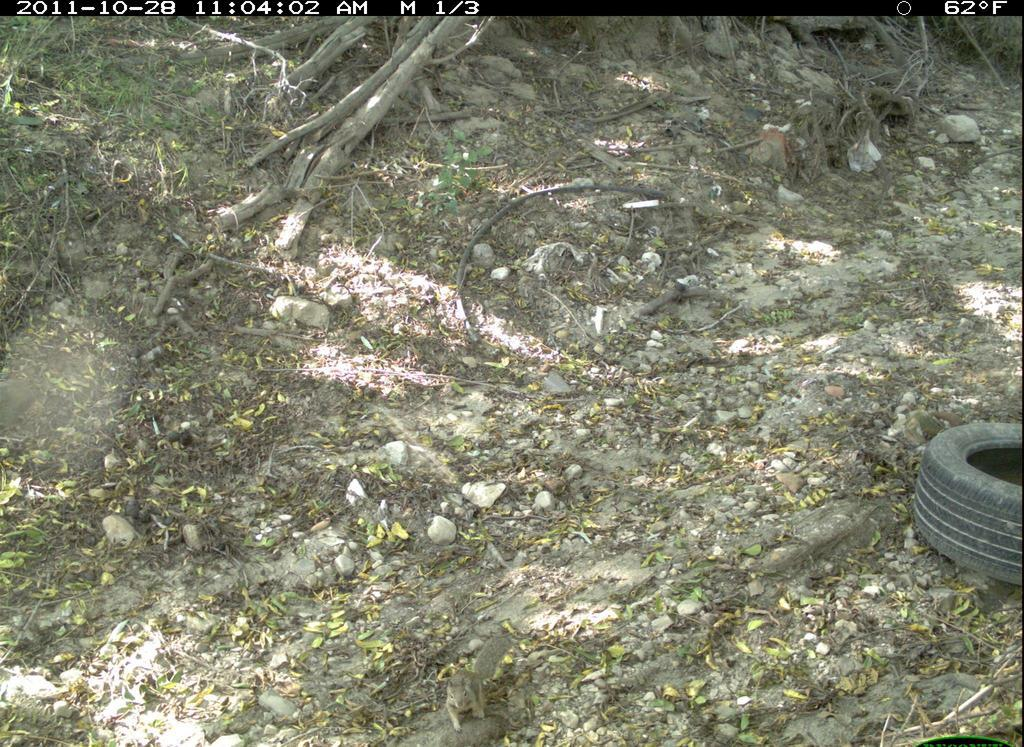squirrel: (431, 630, 527, 737)
